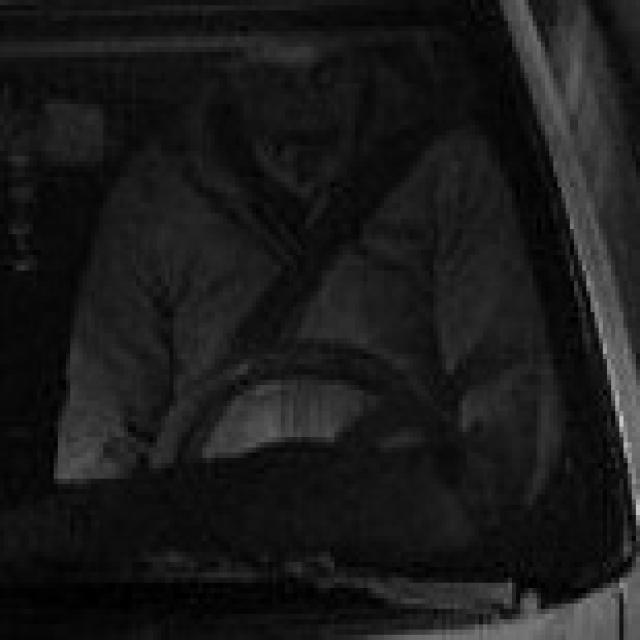Seatbelt: (215, 88, 458, 370)
